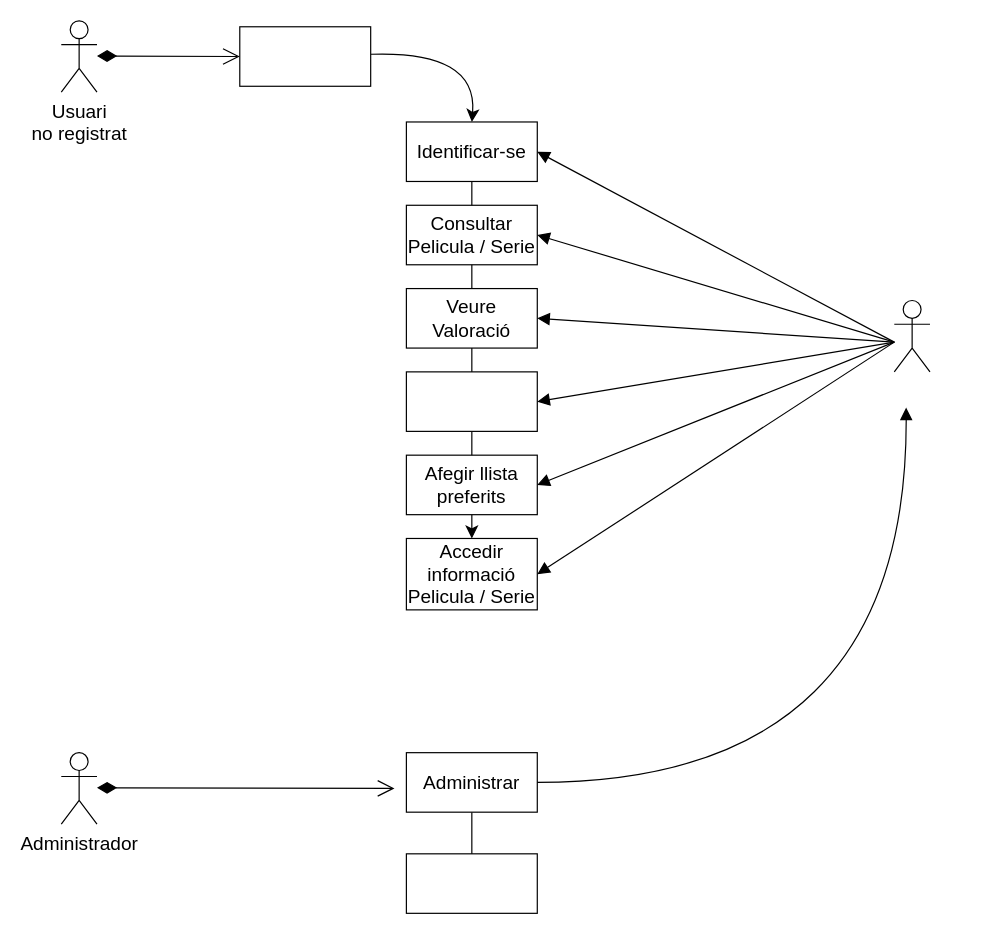
Image size: 997x934. Some labels were removed from this diagram. The centre of each missing label's shape, as x and y in pixels:
"Actualitzar catàleg" goes at pixel 471 883.
"Editar dades" goes at pixel 471 401.
"Registrat" goes at pixel 305 56.
"Usuari registrat" goes at pixel 911 335.
